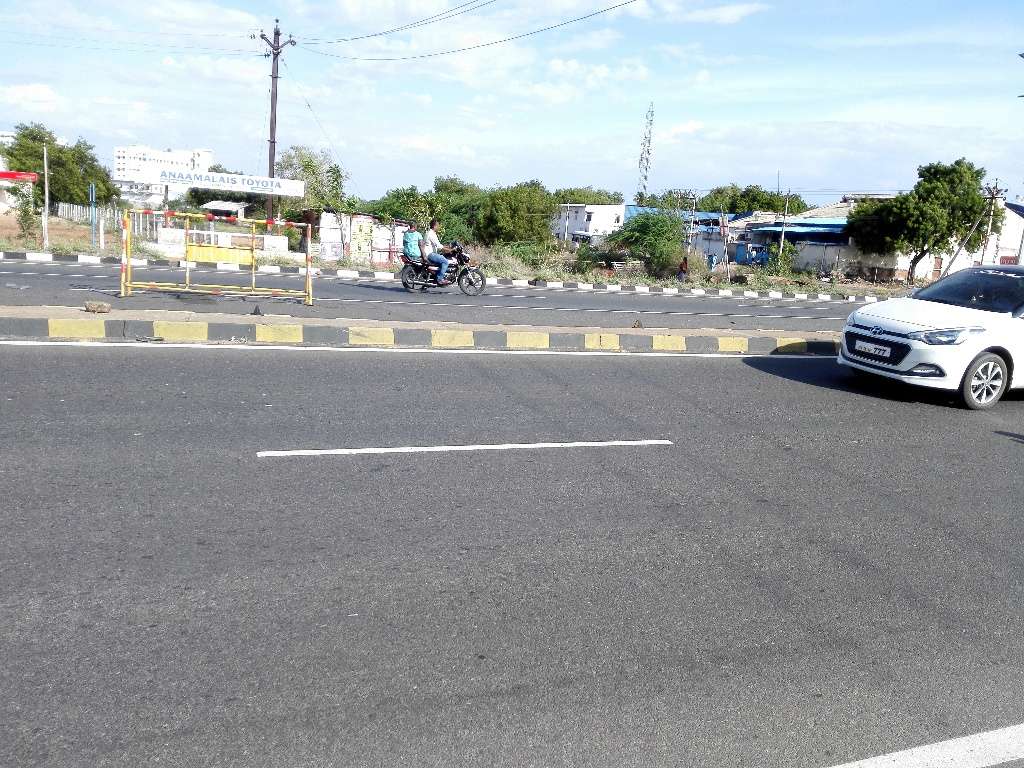biker: (389, 194, 499, 302)
nohelmet: (426, 210, 447, 242), (403, 212, 424, 244)
